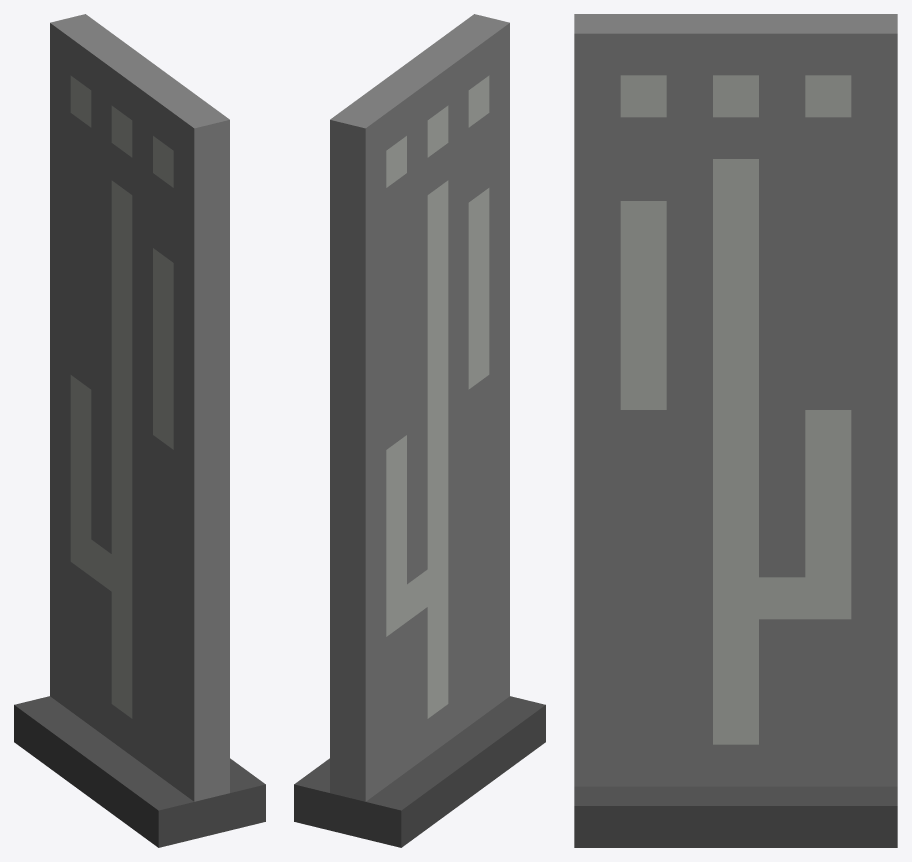
The model's file is ChipPart.fbx.
The picture shows the model from 3 angles, left to right: view 1: azimuth 30°, elevation 25°; view 2: azimuth 150°, elevation 25°; view 3: azimuth 270°, elevation 25°; orthographic projection. The views are drawn at different scales.
Visible parts, largest first — view 1: ChipPart; view 2: ChipPart; view 3: ChipPart.
Boxes of the visible parts, x1,y1,x2,y2 form: ChipPart: (14,14,265,847); ChipPart: (294,14,545,847); ChipPart: (574,14,897,847).
Bounding box in the file's own units: 0.3 × 1.9 × 0.7.
1 material, 1 textured.
